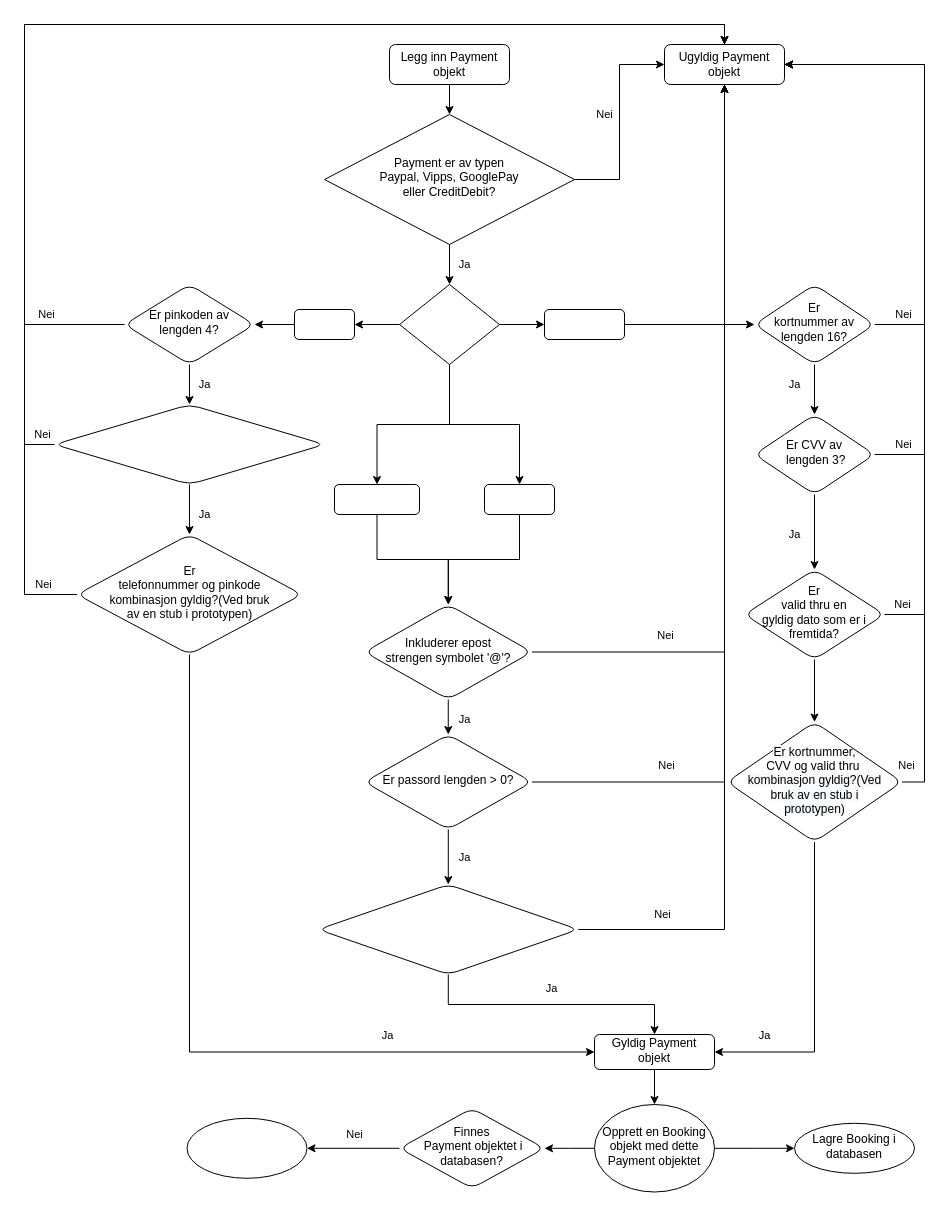
Image size: 950x1210. Some labels were removed from this diagram. The shapes that lost their labels are listed below. From the top down, each one's centre as x and y in pixels, then its label:
point 324,324: Vipps
point 449,324: Hvilket objekt?
point 584,324: CreditDebit
point 189,444: Er telefonnummer av lengden 8 eller mer? (for å unngå problemer med +47)
point 377,499: GooglePay
point 519,499: Paypal
point 447,929: Er epost og passord kombinasjon gyldig? (Ved bruk av en stub i prototypen)
point 246,1147: Lagre Payment i databasen
